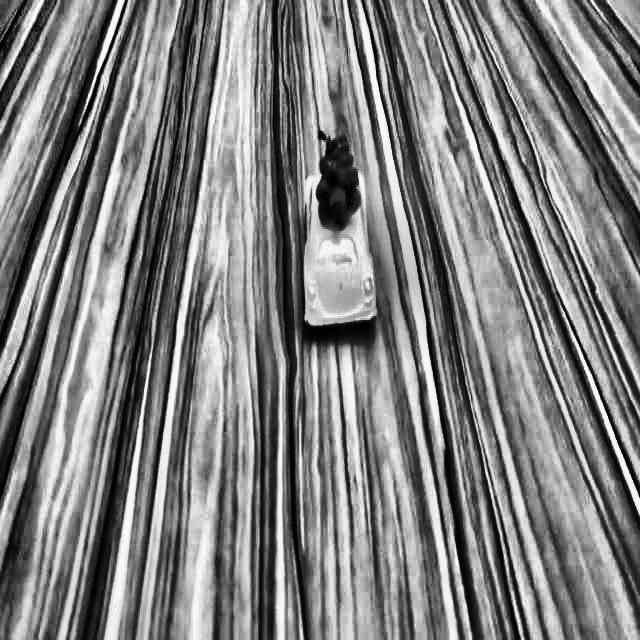carro: (298, 174, 378, 323)
